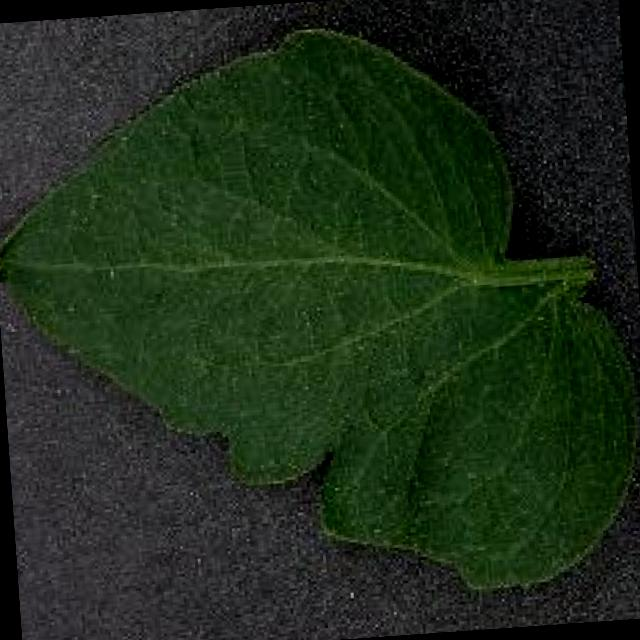healthy: (0, 20, 637, 591)
